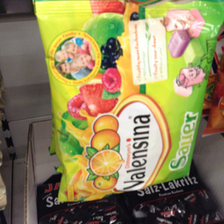candy: (39, 3, 216, 195)
